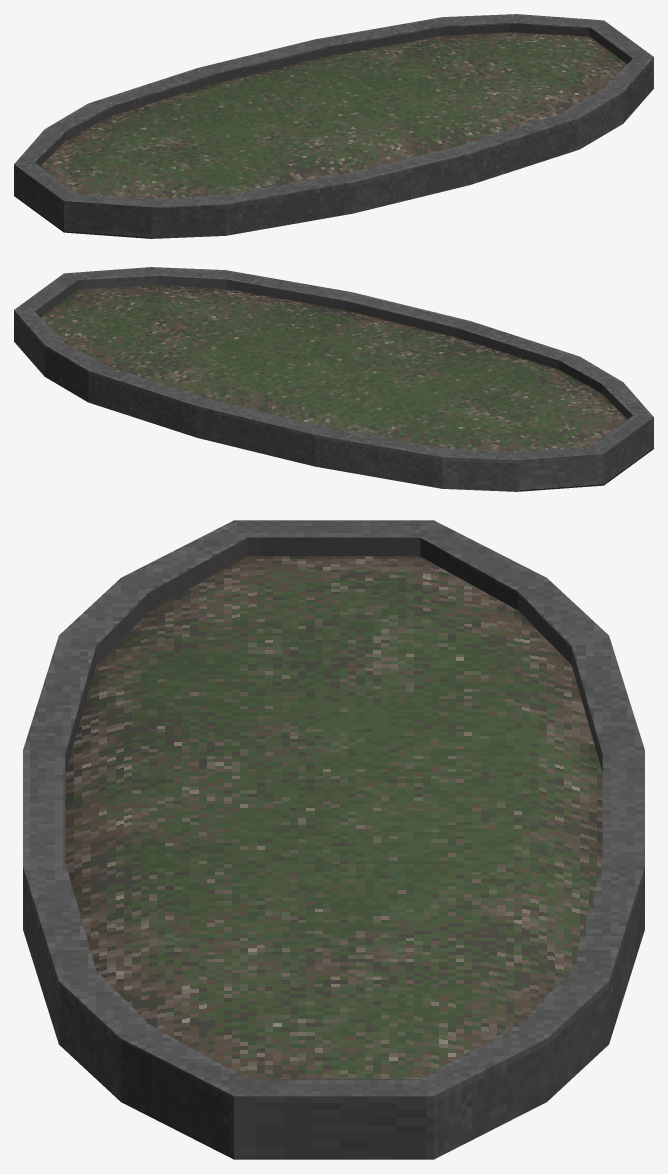
The model's file is Clumba.glb.
3 renders of one model, top to bottom at view 1: azimuth 30°, elevation 25°; view 2: azimuth 150°, elevation 25°; view 3: azimuth 270°, elevation 25°, orthographic. The views are drawn at different scales.
Visible parts, largest first — view 1: Cube.005; view 2: Cube.005; view 3: Cube.005.
Boxes of the visible parts, x1=… form: Cube.005: x1=14, y1=14, x2=653, y2=238; Cube.005: x1=14, y1=267, x2=653, y2=491; Cube.005: x1=23, y1=520, x2=644, y2=1159.
Size of the model in its own units: 19.49 by 1 by 8.9.
Materials: 1 (1 with a texture image).
